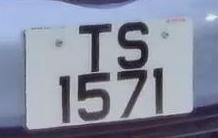1: (52, 71, 78, 128), (146, 65, 172, 116)
5: (73, 68, 117, 123)
7: (114, 67, 152, 121)
S: (113, 19, 156, 72)
T: (75, 21, 118, 75)
